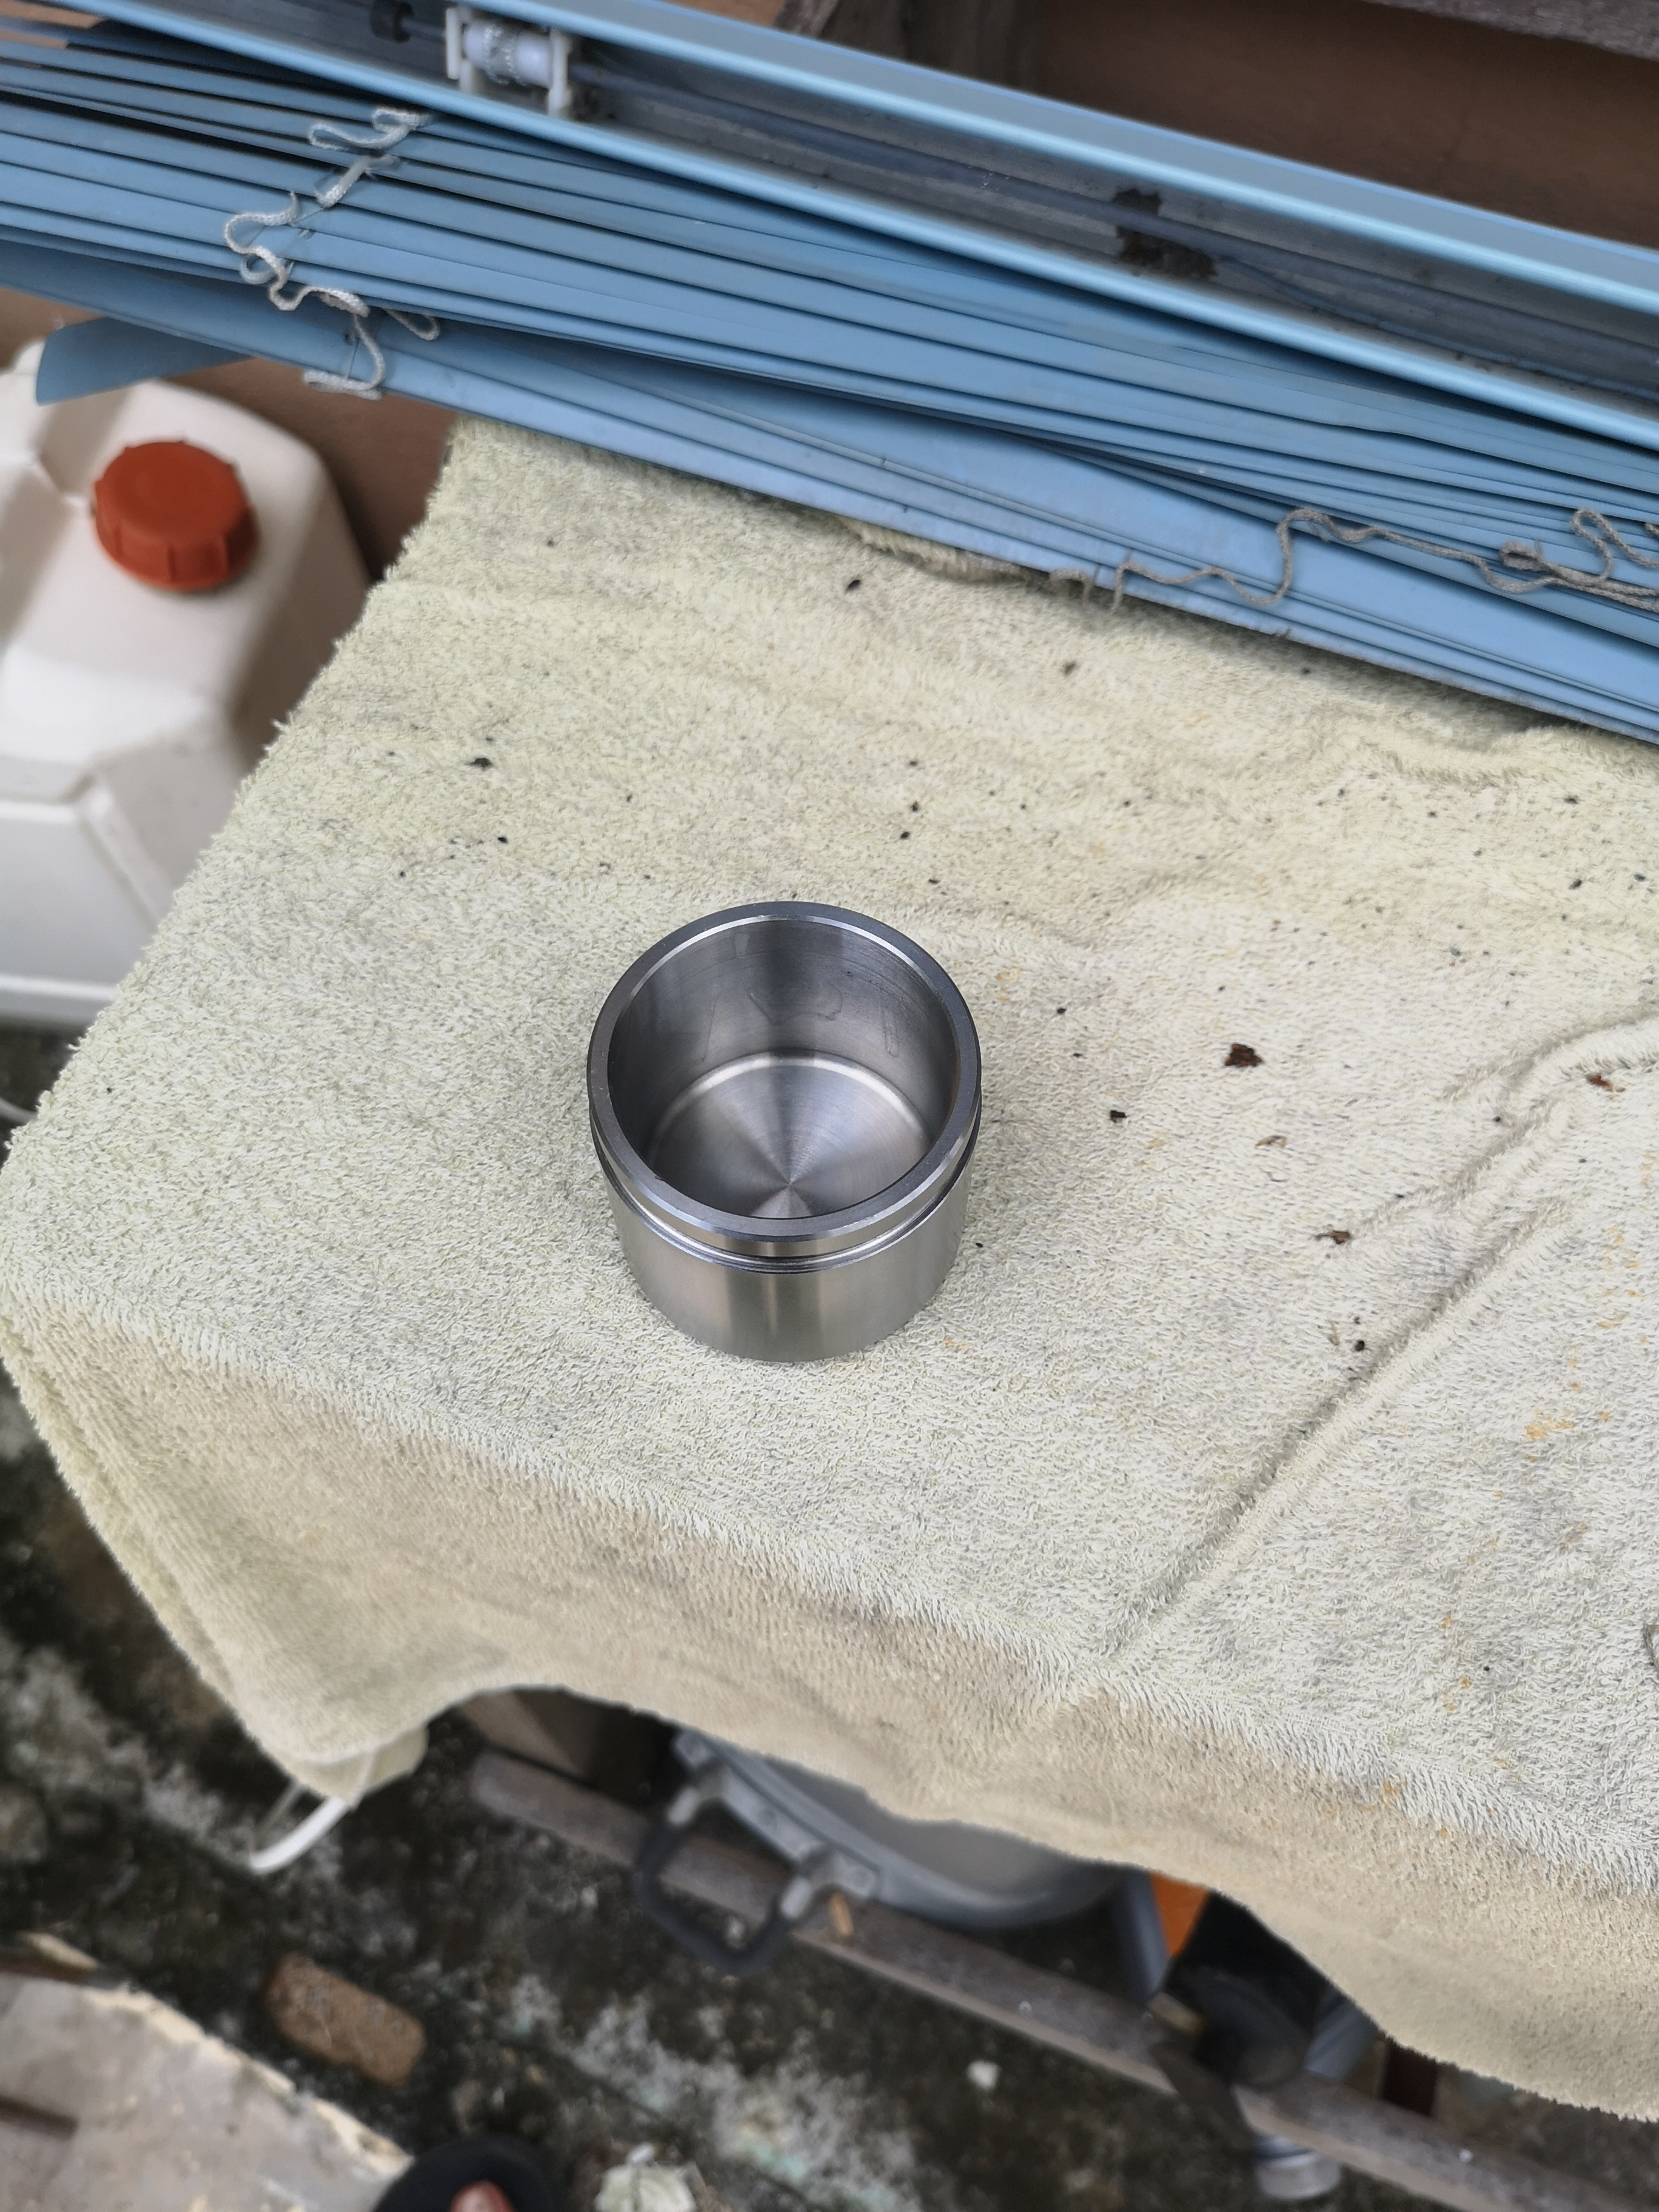ลูกสูบดิสเบรค: (498, 888, 1056, 1446)
